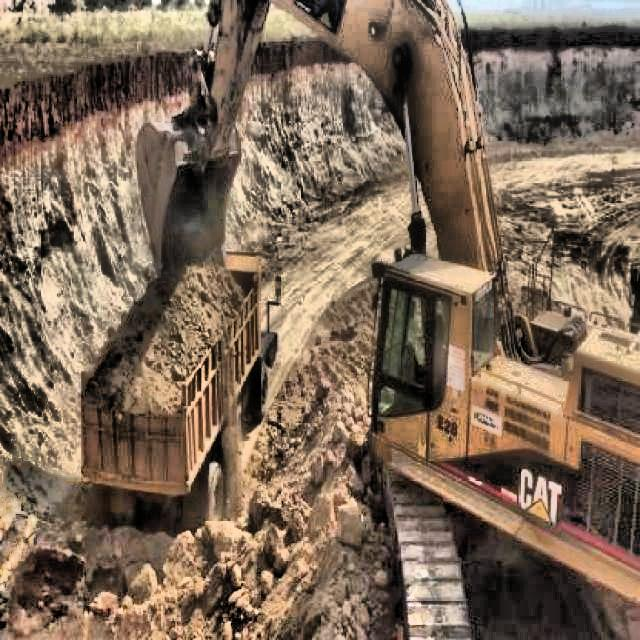dump_truck: (76, 234, 282, 516)
excavator: (129, 0, 638, 638)
